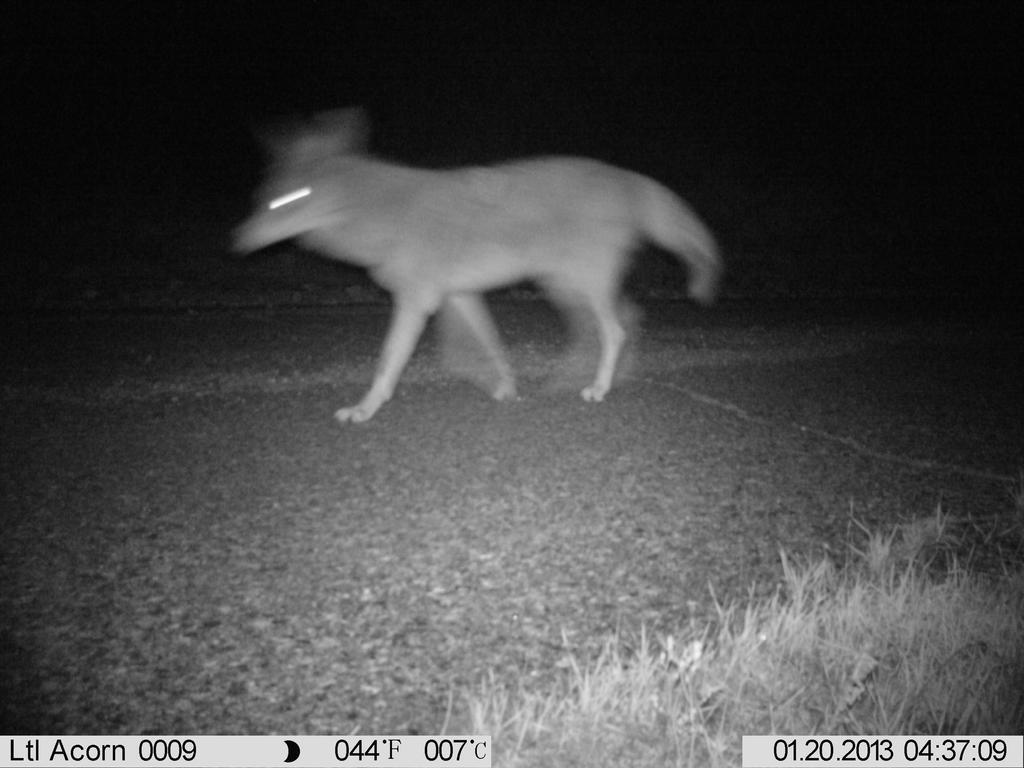coyote: (221, 101, 740, 433)
